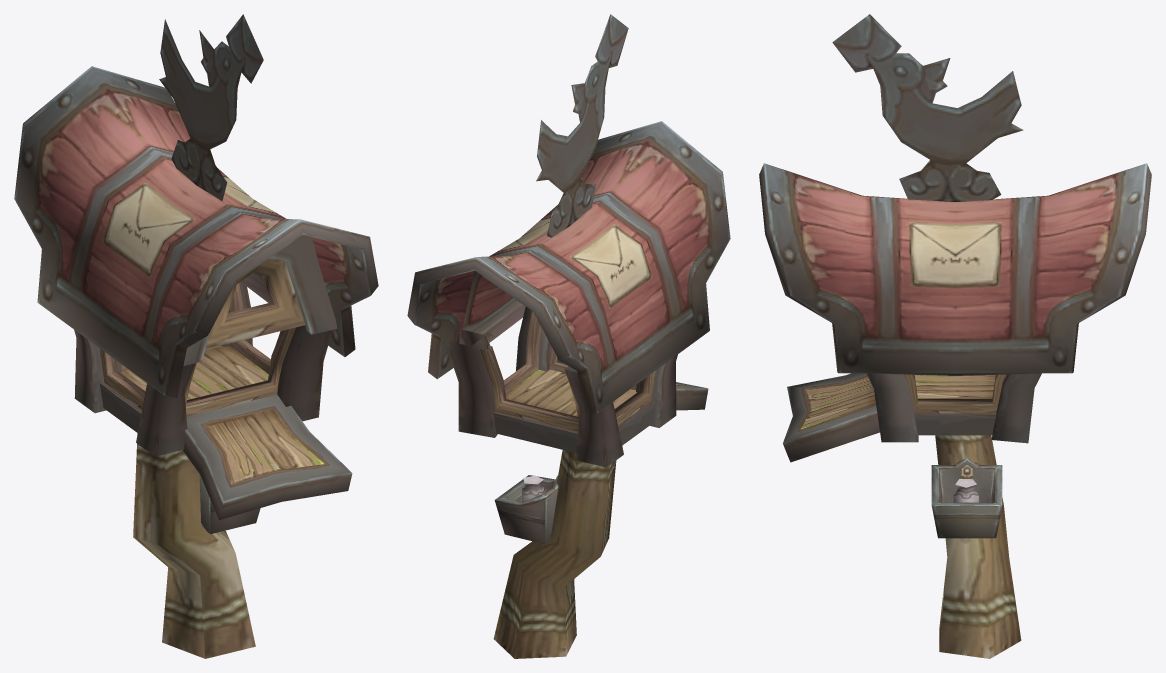
File: Map_04_wooden05.FBX
The picture shows the model from 3 angles, left to right: view 1: azimuth 30°, elevation 25°; view 2: azimuth 150°, elevation 25°; view 3: azimuth 270°, elevation 25°; orthographic projection. The views are drawn at different scales.
Parts seen in each view (by area): view 1: Map_04_wooden05; view 2: Map_04_wooden05; view 3: Map_04_wooden05.
Part boxes in pixels (left/top/right/bottom): Map_04_wooden05: left=14, top=14, right=378, bottom=658; Map_04_wooden05: left=407, top=14, right=730, bottom=658; Map_04_wooden05: left=759, top=14, right=1151, bottom=658.
Size of the model in its own units: 6.18 by 20.84 by 12.06.
